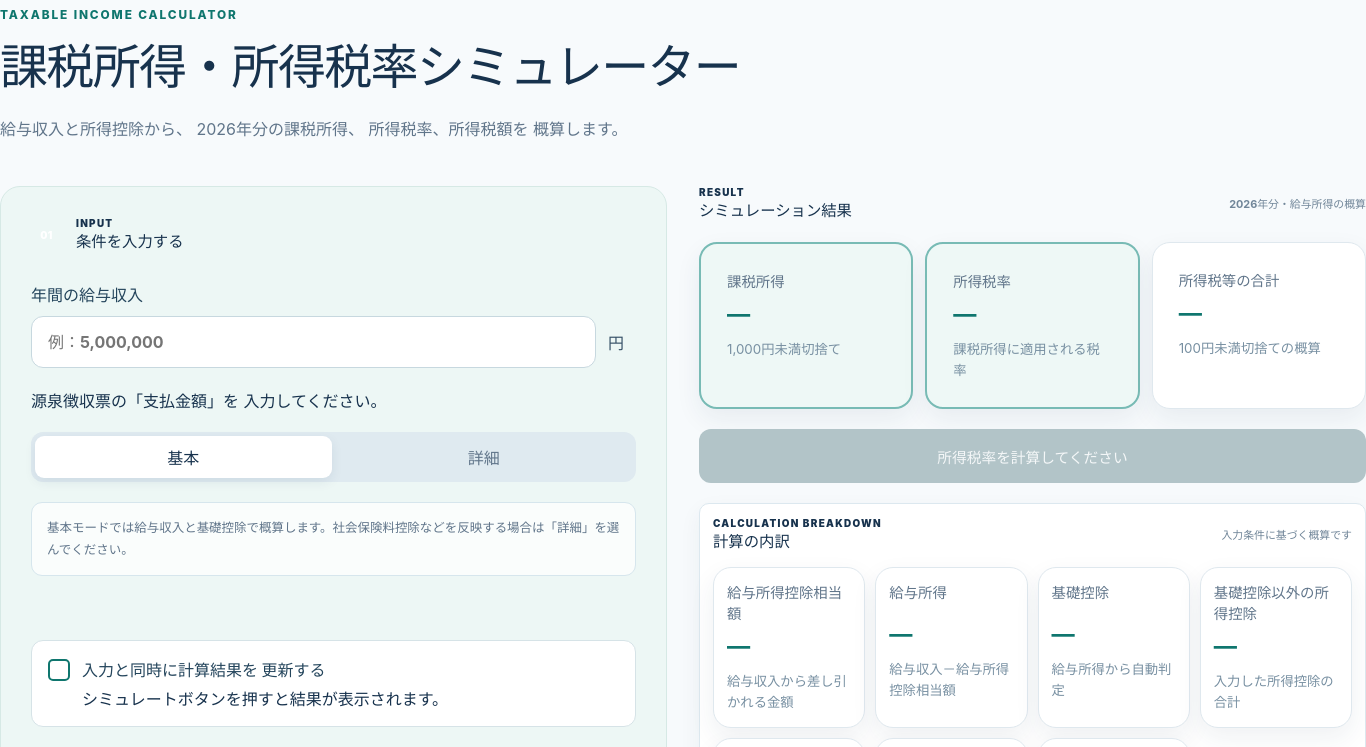
TaxableIncomeCalculator public UX › does not move during automatic calculation
Click the checkbox labelled "入力と同時に計算結果を 更新する" at [59, 670], box [48, 659, 70, 681]
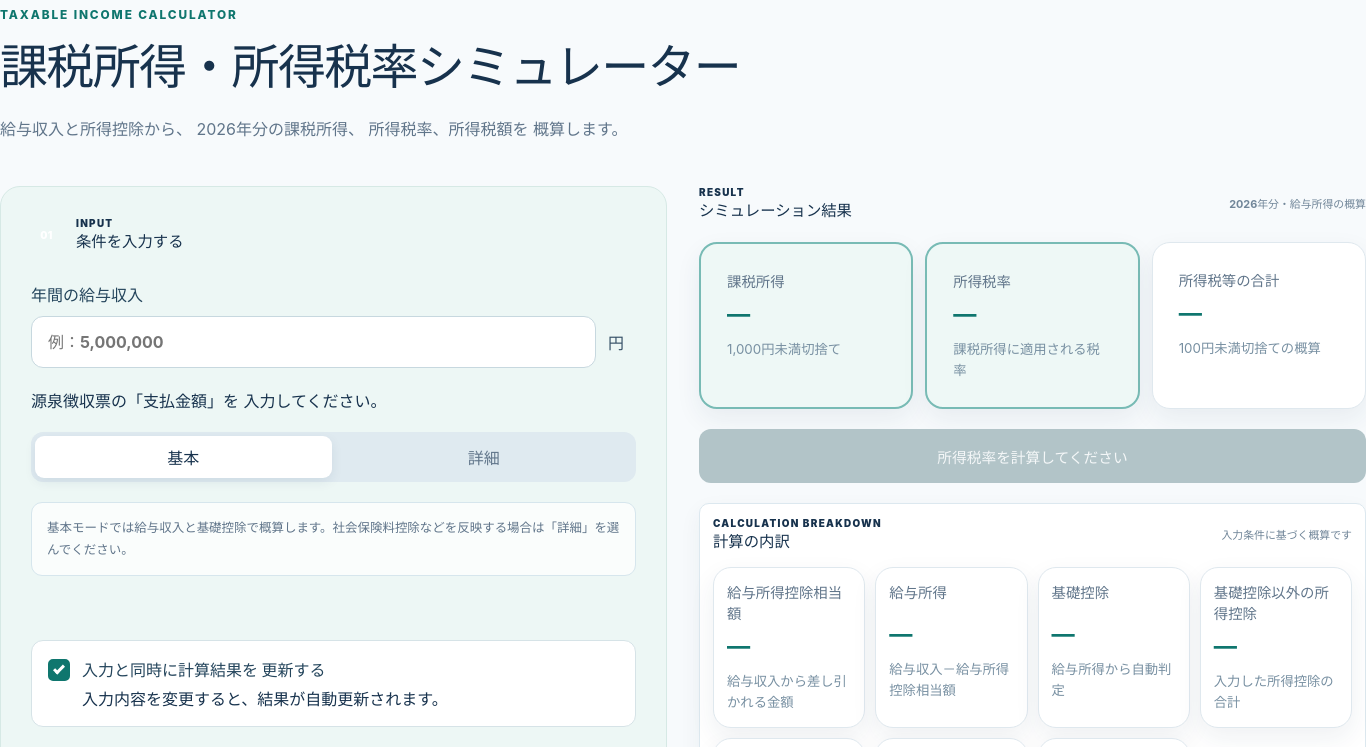
Type "5000000" into the field labelled "年間の給与収入 円" at [314, 342], box [31, 316, 596, 368]
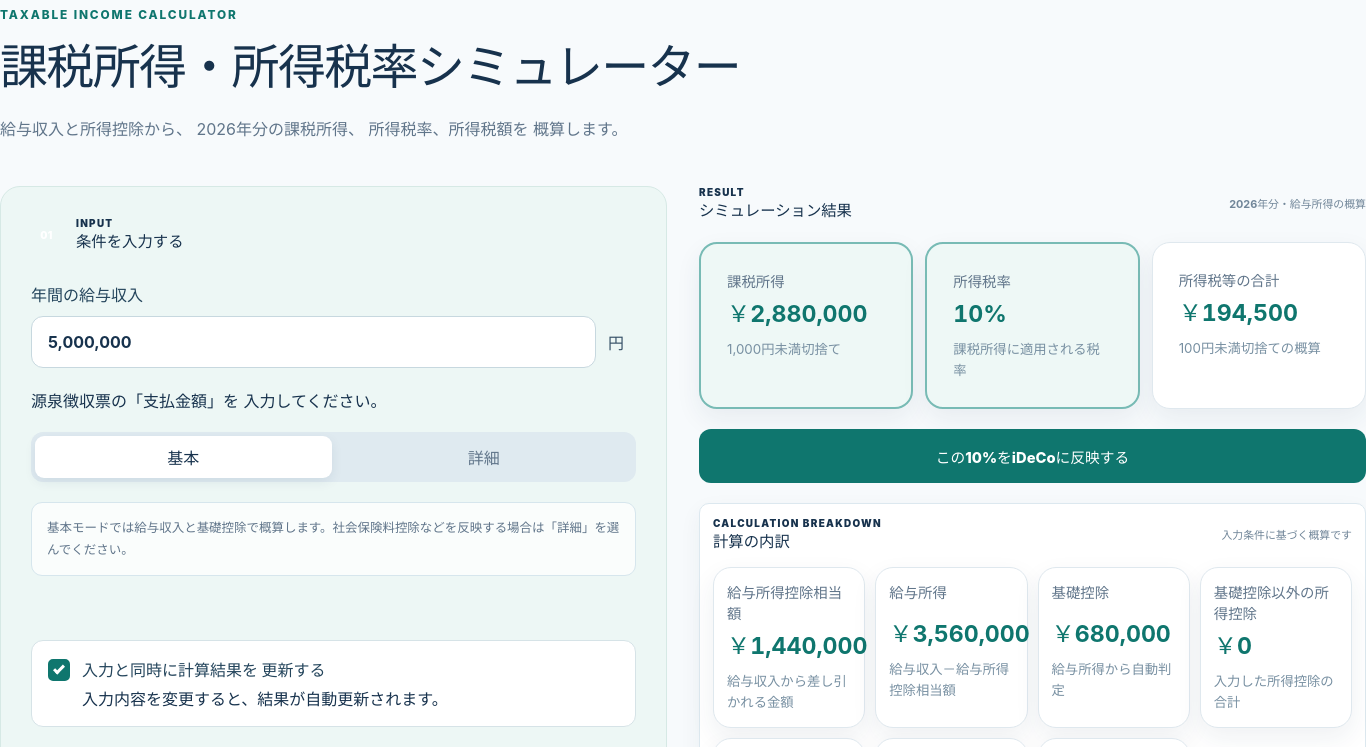
Expected: the button "この10%をiDeCoに反映する" is shown, [699, 429, 1365, 483]
